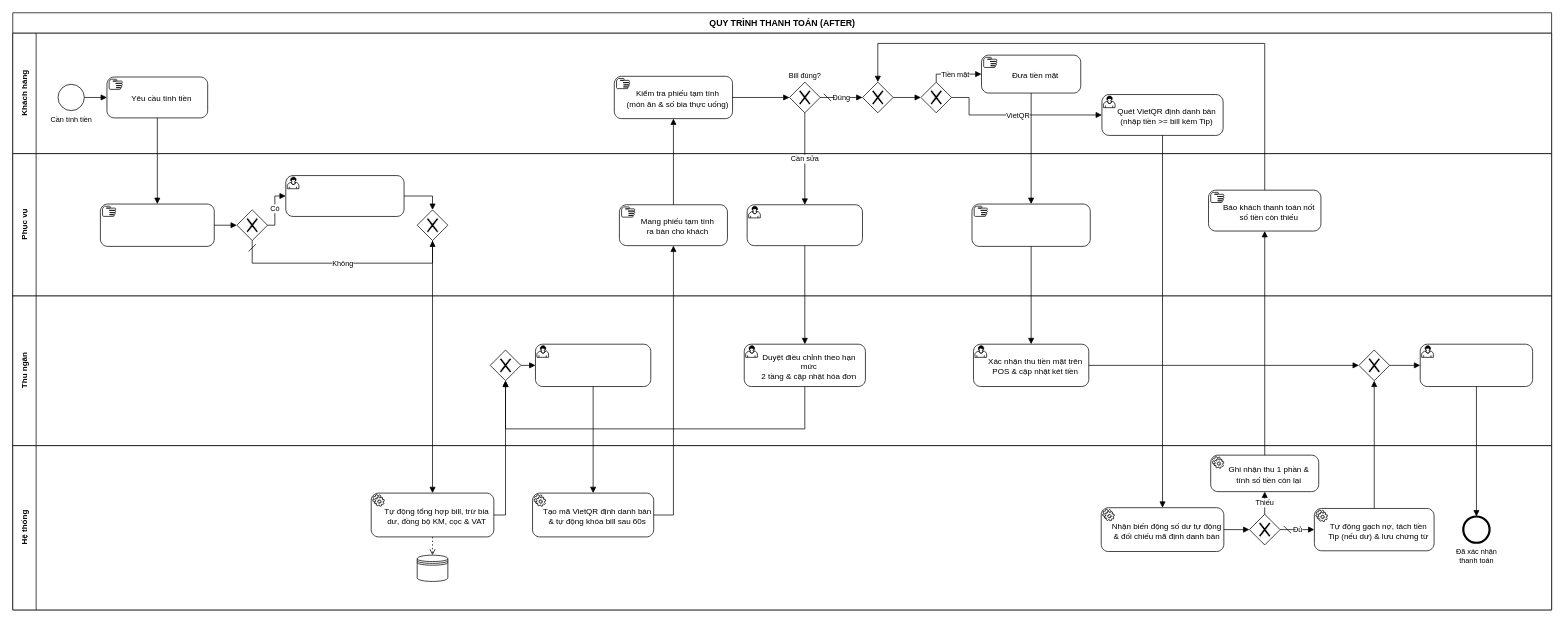
Image size: 1564x634. Some labels were removed from this diagram. Here are the shapes that lost their labels. From the top down, the centre of each, then its label:
At (x=936, y=97): "Hình thức TT?".
At (x=344, y=195): "Nhập số lượng trả dư trên ĐT & mang hàng dư về quầy".
At (x=157, y=224): "Kiểm đếm bia / đồ uống chưa khui còn dư tại bàn".
At (x=252, y=225): "Có hàng dư?".
At (x=804, y=225): "Gửi yêu cầu mở khóa / điều chỉnh bill kèm lý do".
At (x=1030, y=224): "Nhận, đếm tiền mặt, trả tiền thừa & giao ngay Thu ngân".
At (x=593, y=365): "Kiểm tra & bấm In phiếu tạm tính K80 kèm VietQR".
At (x=1476, y=365): "In hóa đơn chính thức (kèm QR tra cứu HĐĐT) & đóng bàn".
At (x=1264, y=529): "Đủ tiền?".
At (x=432, y=567): "CSDL Hóa đơn & Giao dịch".
